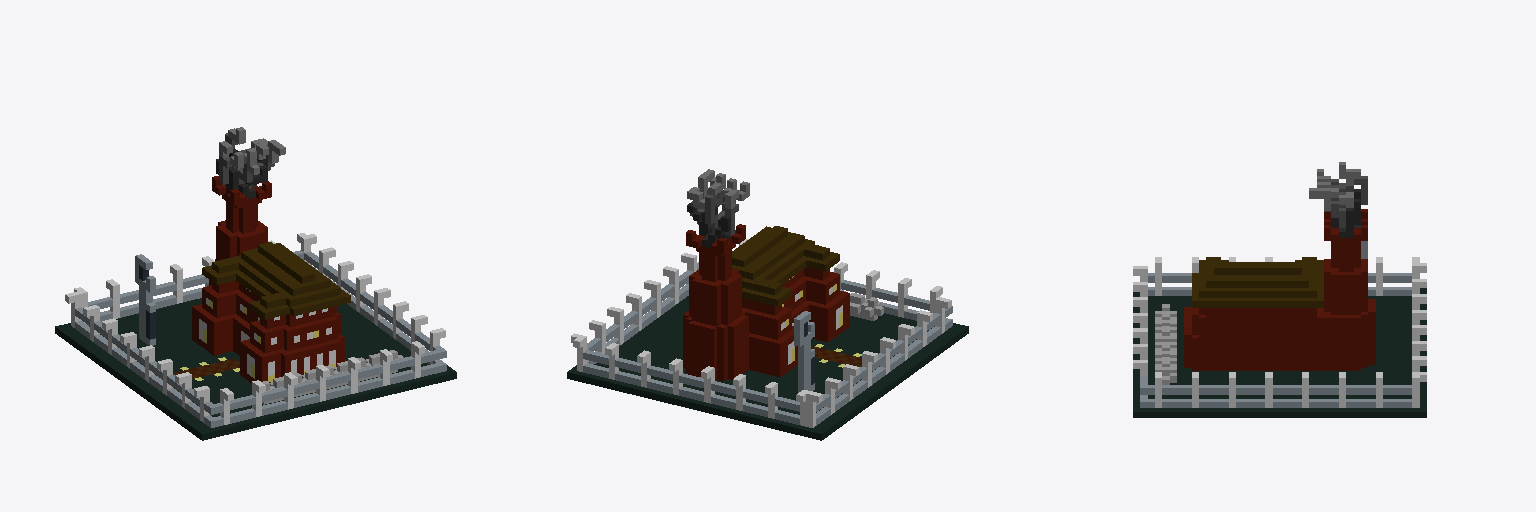
3 views of the same model, side by side, from view 1: azimuth 30°, elevation 25°; view 2: azimuth 150°, elevation 25°; view 3: azimuth 270°, elevation 25° (orthographic).
Parts seen in each view (by area): view 1: dtekFabrika; view 2: dtekFabrika; view 3: dtekFabrika.
Boxes of the visible parts, x1,y1,x2,y2 form: dtekFabrika: [55, 127, 456, 440]; dtekFabrika: [567, 169, 968, 440]; dtekFabrika: [1133, 162, 1426, 417].
Size of the model in its own units: 40 by 30 by 40.
1 materials, 1 textured.